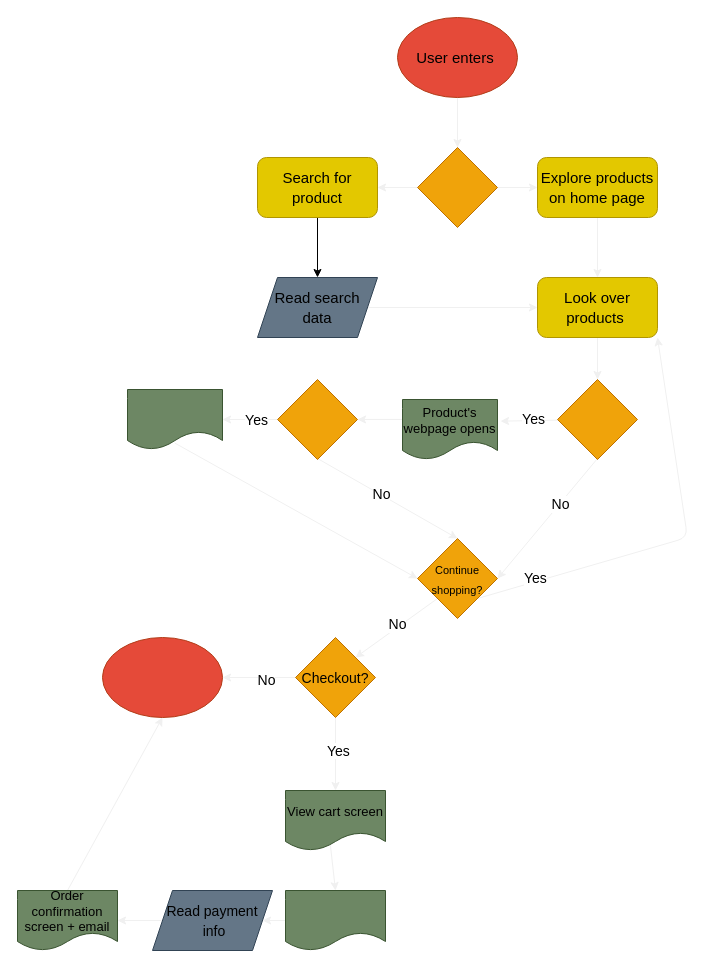
This 713x968 diagram has some shape labels left out. The centre of each missing label's shape, as x and y in pixels:
Add to cart?: [317,419]
Added to cart confirmation: [174,419]
User exits website: [162,677]
View payment screen: [335,920]
View specific product?: [597,419]
Website: [457,187]
